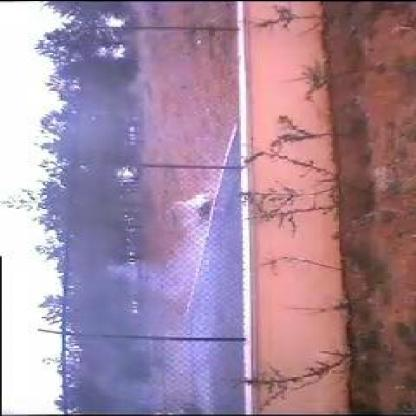-: (66, 162, 243, 336)
